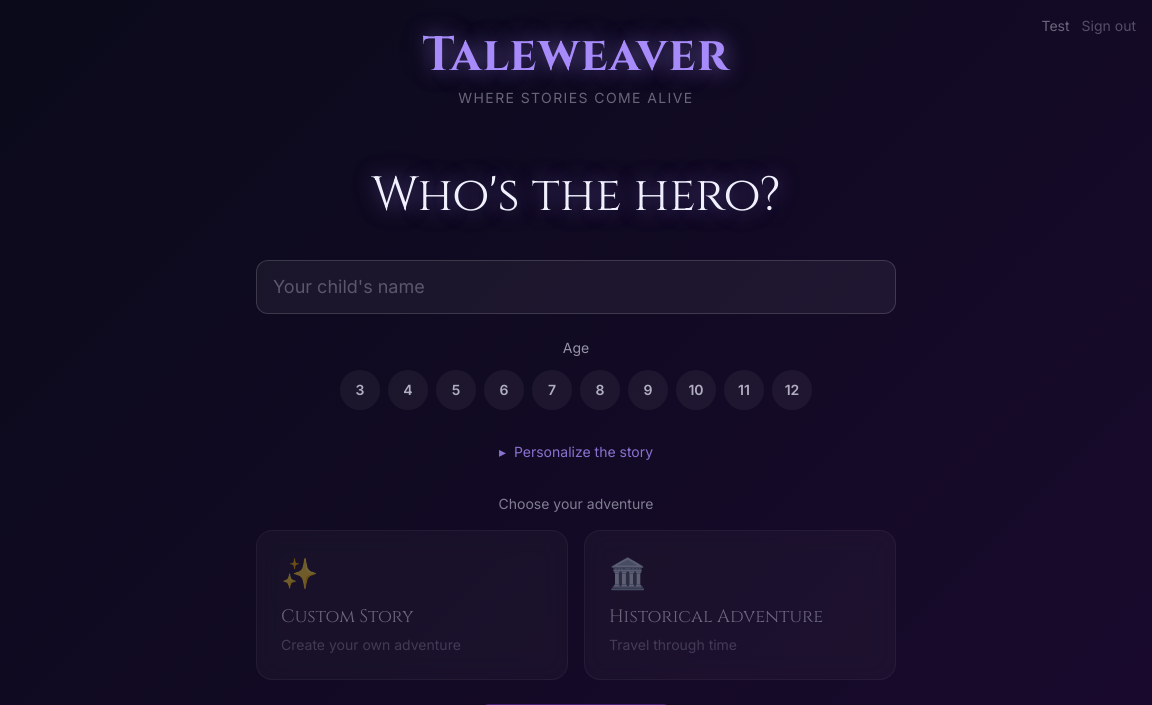
Test: App › navigates to craft screen after submitting hero
This screenshot has width=1152, height=705.
Type "Arjun" into the field with placeholder "Your child's name" at [576, 287], box x1=256 y1=260 x2=896 y2=314
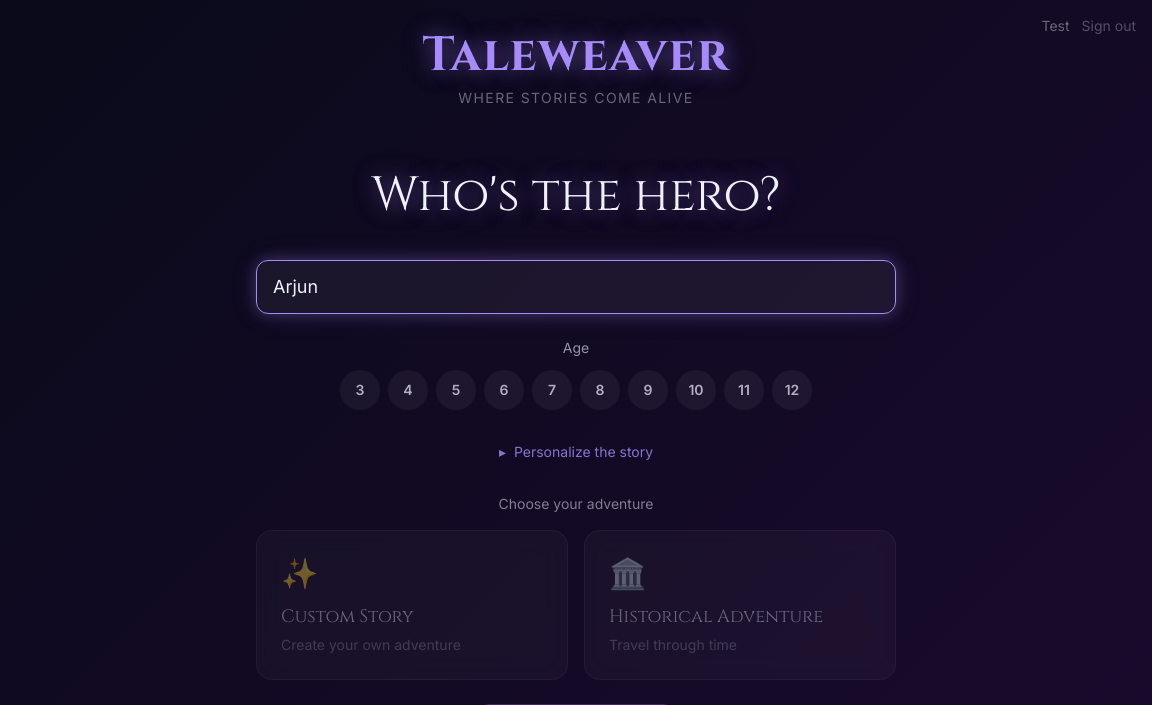
Click the button "7" at [552, 390], box x1=532 y1=370 x2=572 y2=410
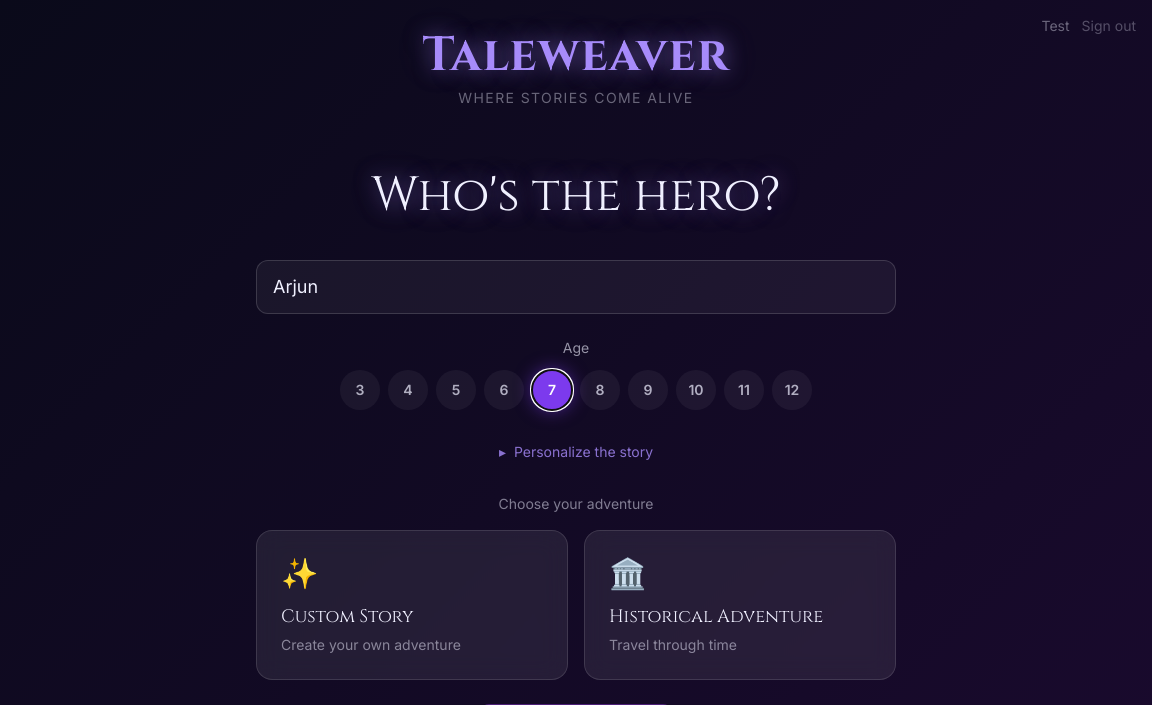
Click the button "✨ Custom Story Create your own adventure" at [412, 605], box x1=256 y1=530 x2=568 y2=680
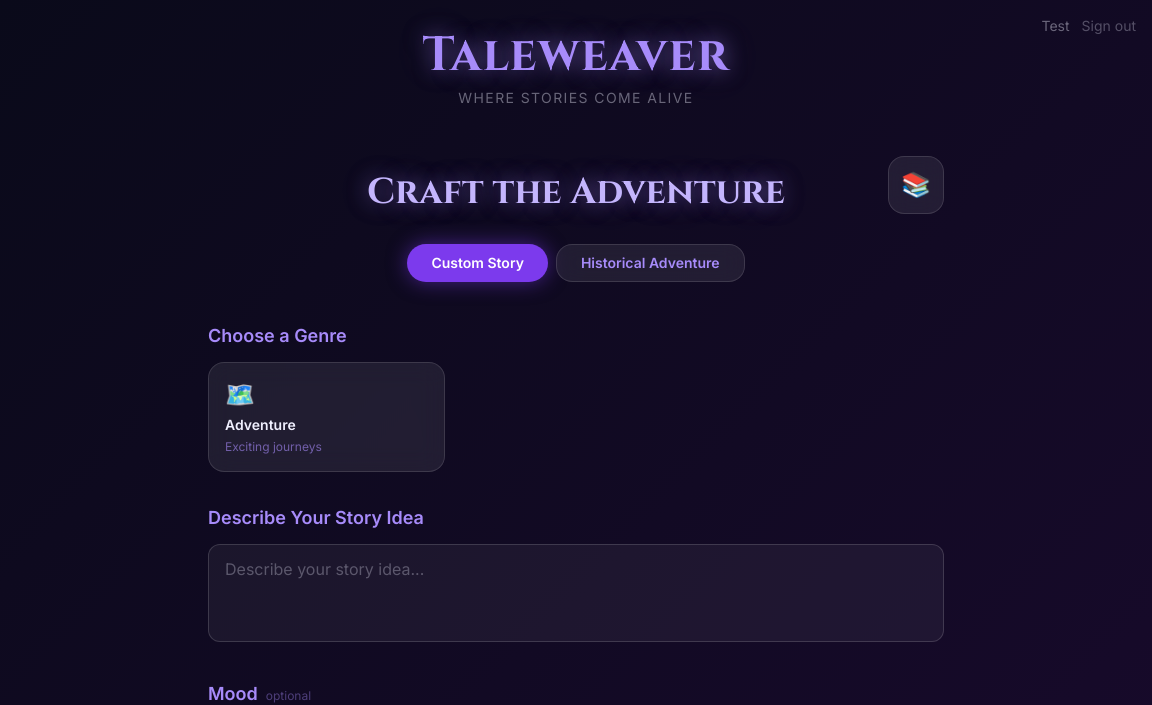
Expected: the heading "Craft the Adventure" is shown, x1=367 y1=168 x2=785 y2=216
